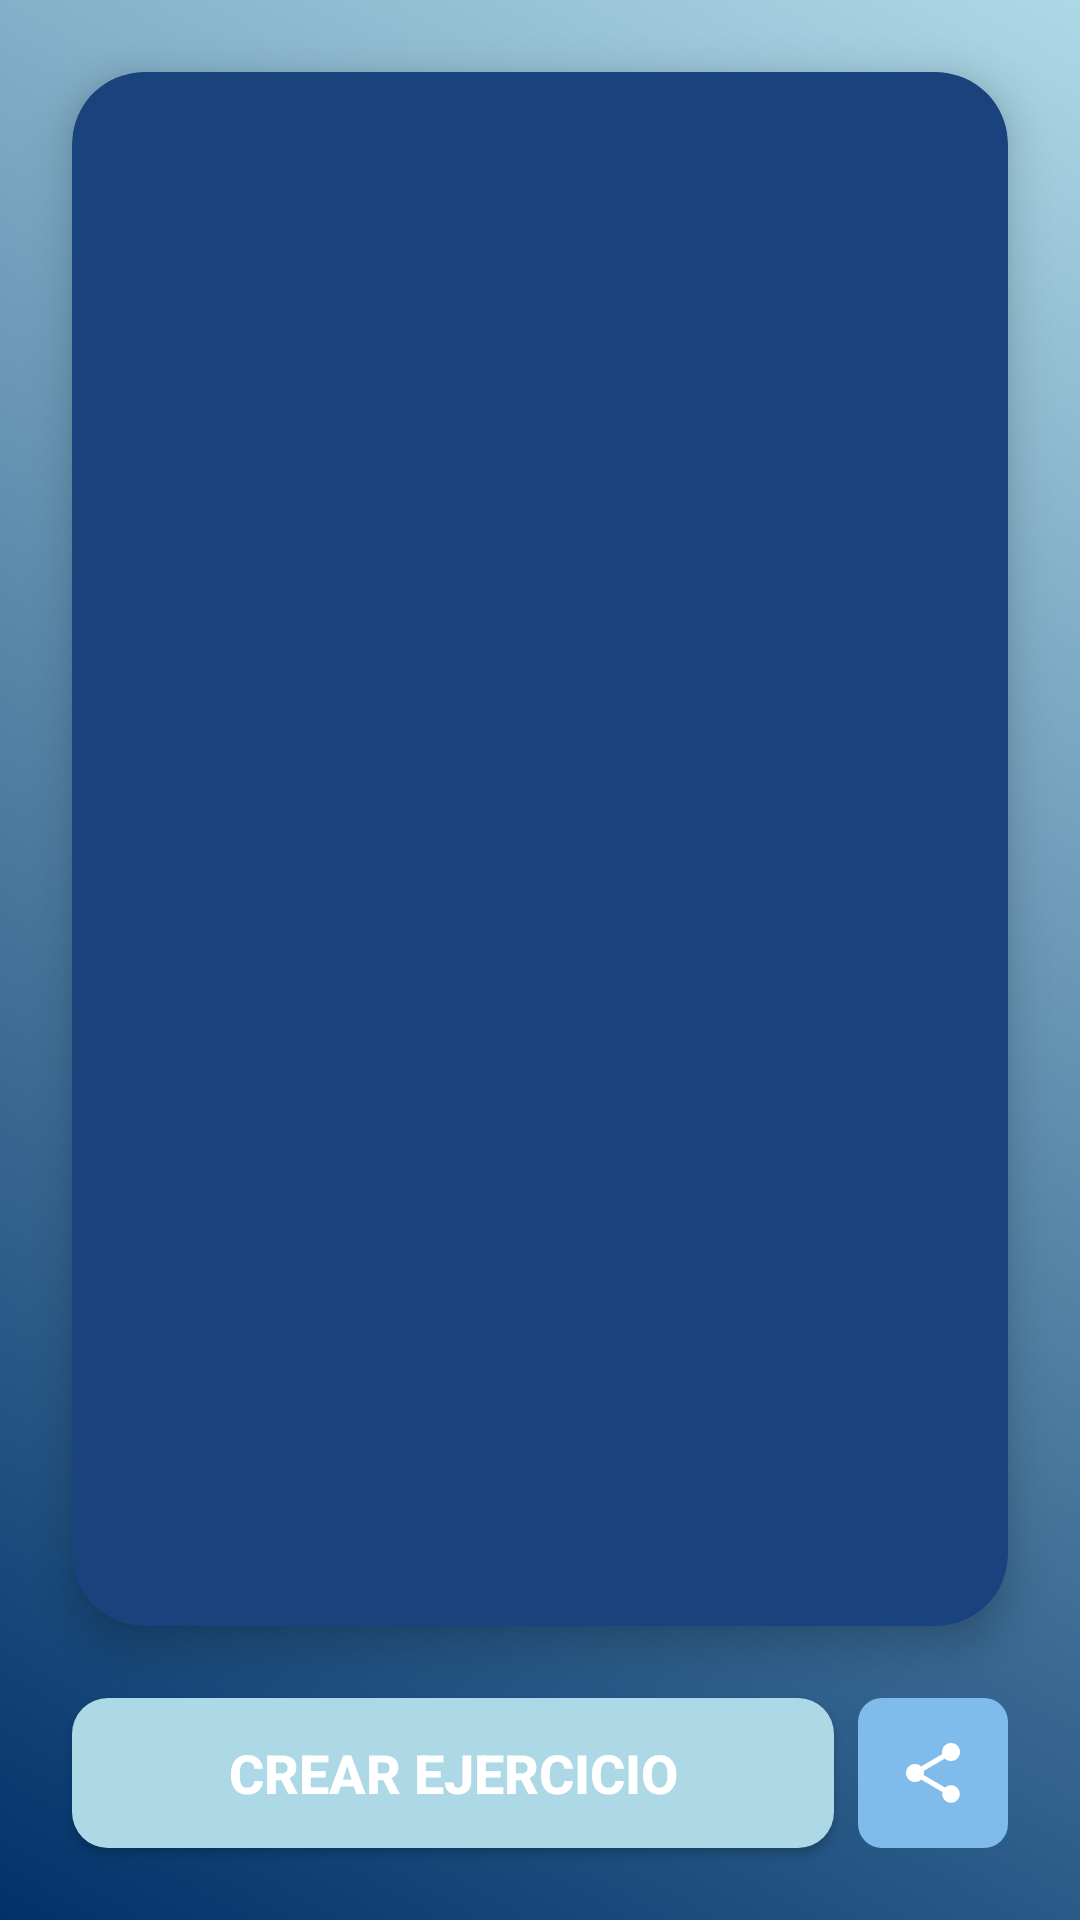

Named icons in this screenshot (1080px x 1920px) and their centers, point (x, y):
Compartir: point (933, 1773)
